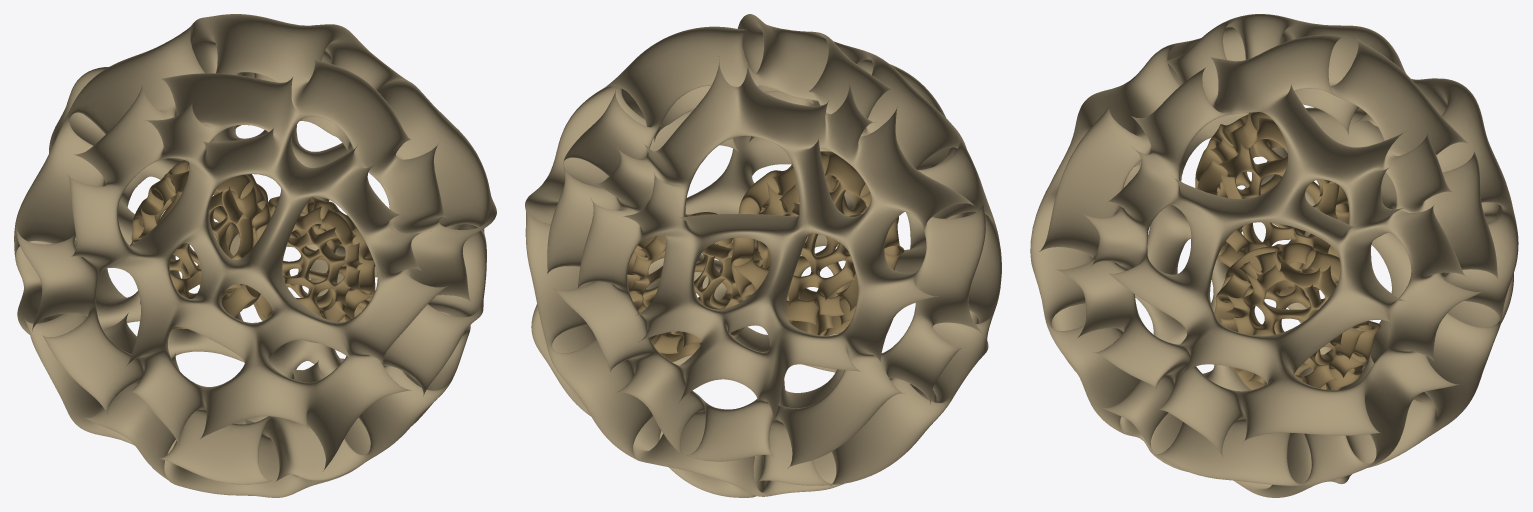
File: parametric_sphere.glb
3 views of the same model, side by side, from view 1: azimuth 30°, elevation 25°; view 2: azimuth 150°, elevation 25°; view 3: azimuth 270°, elevation 25° (orthographic).
Visible parts, largest first — view 1: parametric_sphere, object 3, object 2; view 2: parametric_sphere, object 2, object 3; view 3: parametric_sphere, object 3, object 2.
Part boxes in pixels (x1,y1,x2,y2): parametric_sphere: (14,14,496,497); object 3: (253,196,375,343); object 2: (130,160,271,330); parametric_sphere: (525,14,1001,497); object 2: (730,151,904,335); object 3: (627,212,762,362); parametric_sphere: (1030,14,1518,497); object 3: (1214,243,1380,390); object 2: (1195,112,1349,295).
Size of the model in its own units: 3.07 by 3.1 by 3.03.
